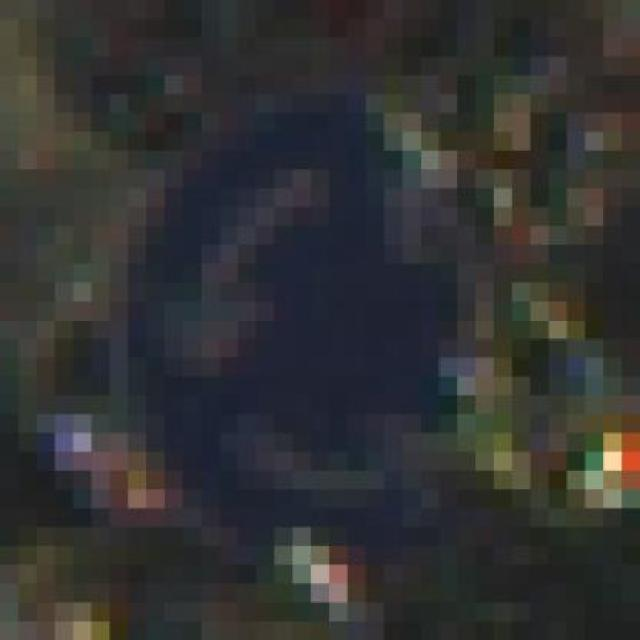Round-About: (73, 112, 604, 565)
